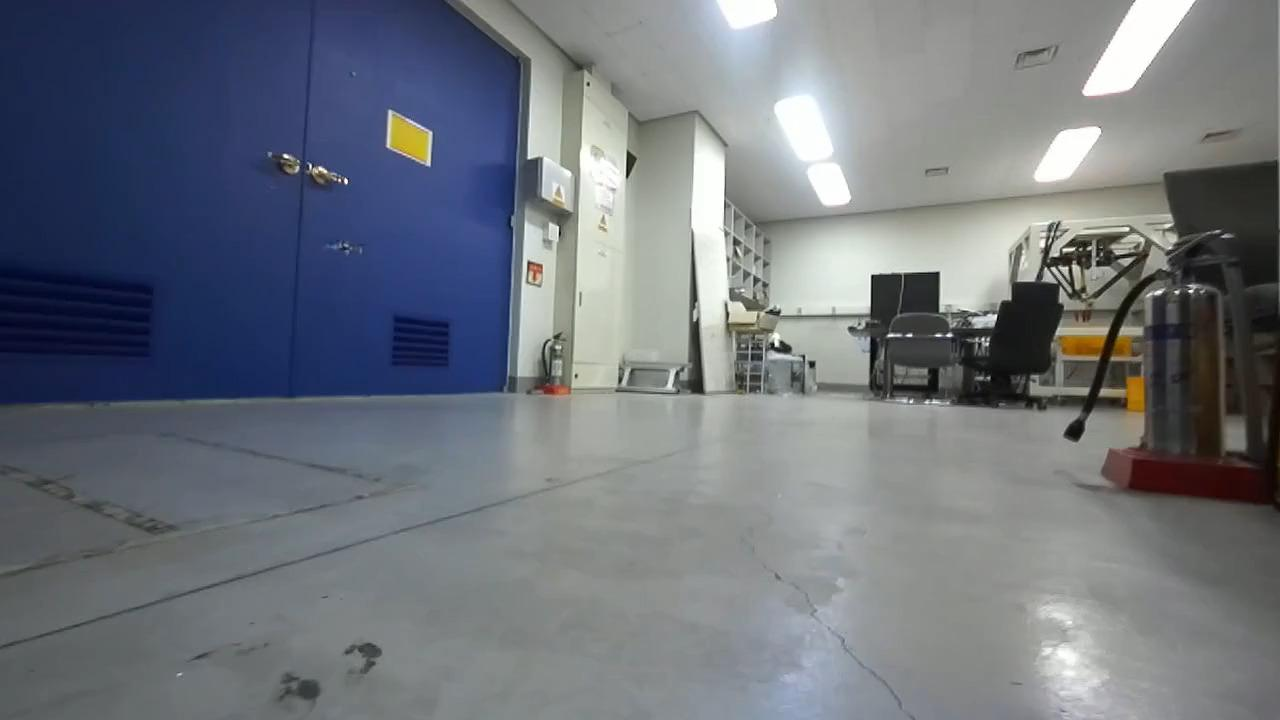crazyflie: (325, 237, 364, 257)
